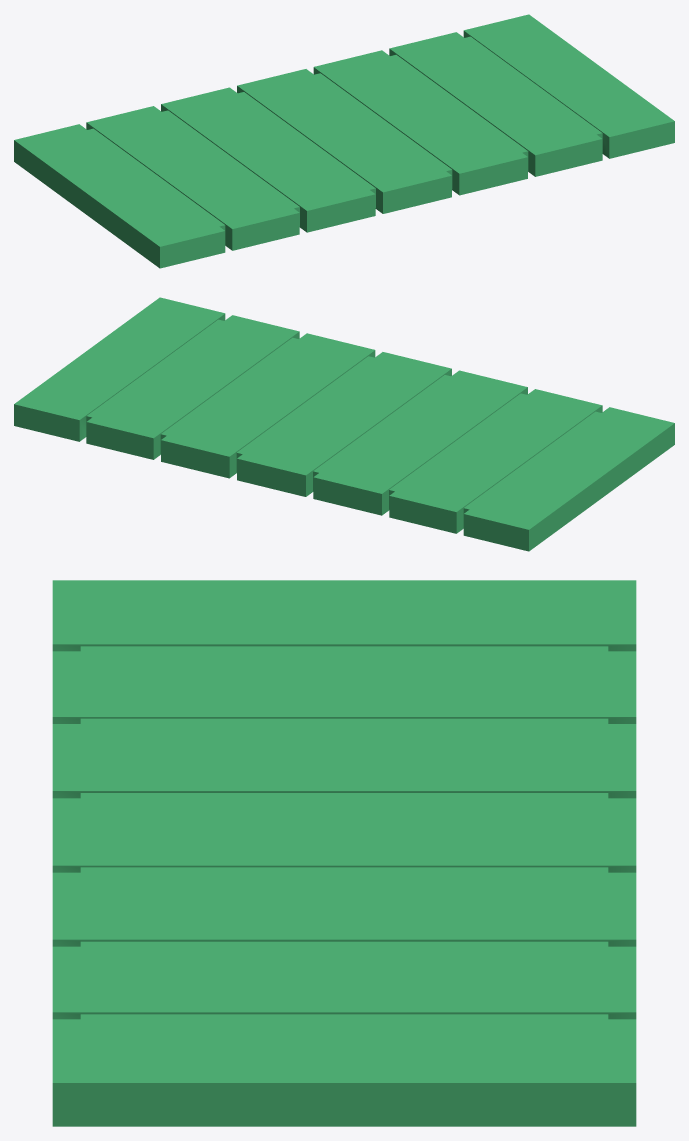
The model's file is wall_plank_02.fbx.
3 renders of one model, top to bottom at view 1: azimuth 30°, elevation 25°; view 2: azimuth 150°, elevation 25°; view 3: azimuth 270°, elevation 25°, orthographic. The views are drawn at different scales.
Visible parts, largest first — view 1: pasted__pCube84; view 2: pasted__pCube84; view 3: pasted__pCube84.
Boxes of the visible parts, <box> form: pasted__pCube84: <box>14,14,674,268</box>; pasted__pCube84: <box>14,297,674,551</box>; pasted__pCube84: <box>52,580,636,1126</box>.
Size of the model in its own units: 0.8529 by 0.0343 by 0.4186.
